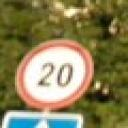speed_limit_20: (14, 38, 96, 110)
